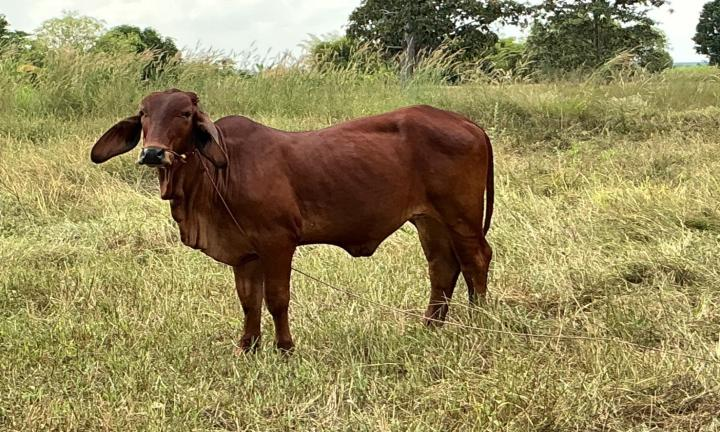Brahman: (91, 89, 493, 349)
